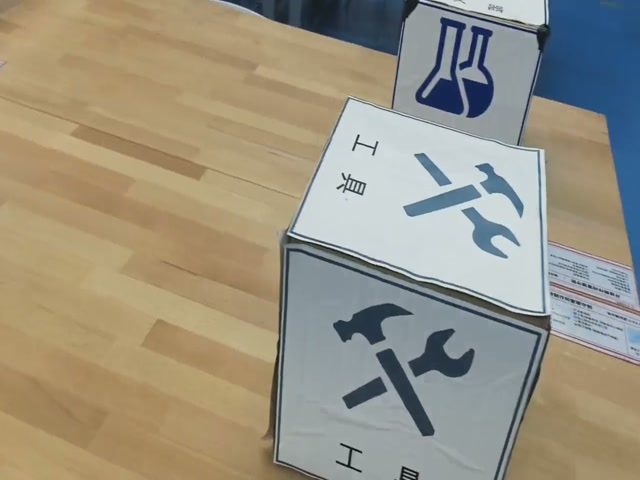Cube_tool: (281, 98, 549, 332)
